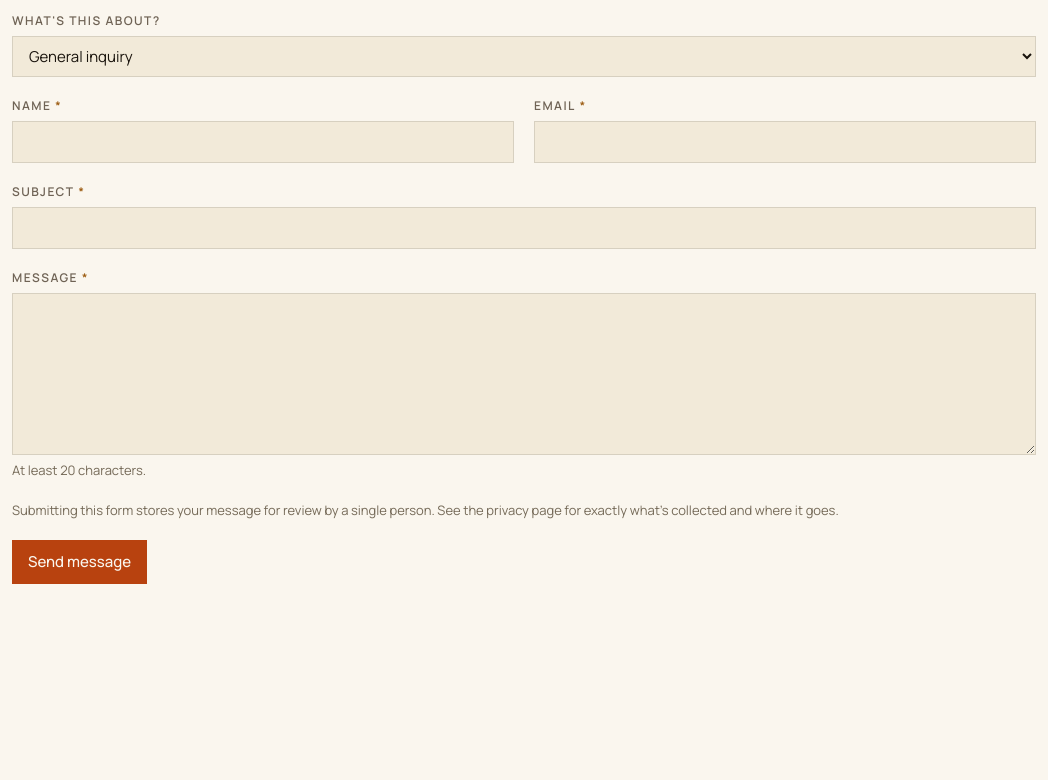
InquiryForm › submit lifecycle: pending, duplicate prevention, success, errors › disables the submit button and shows an accessible pending label while submitting
In the field labelled "Name*": {"x": 263, "y": 142} [12,121,514,163], type "Jane Doe"
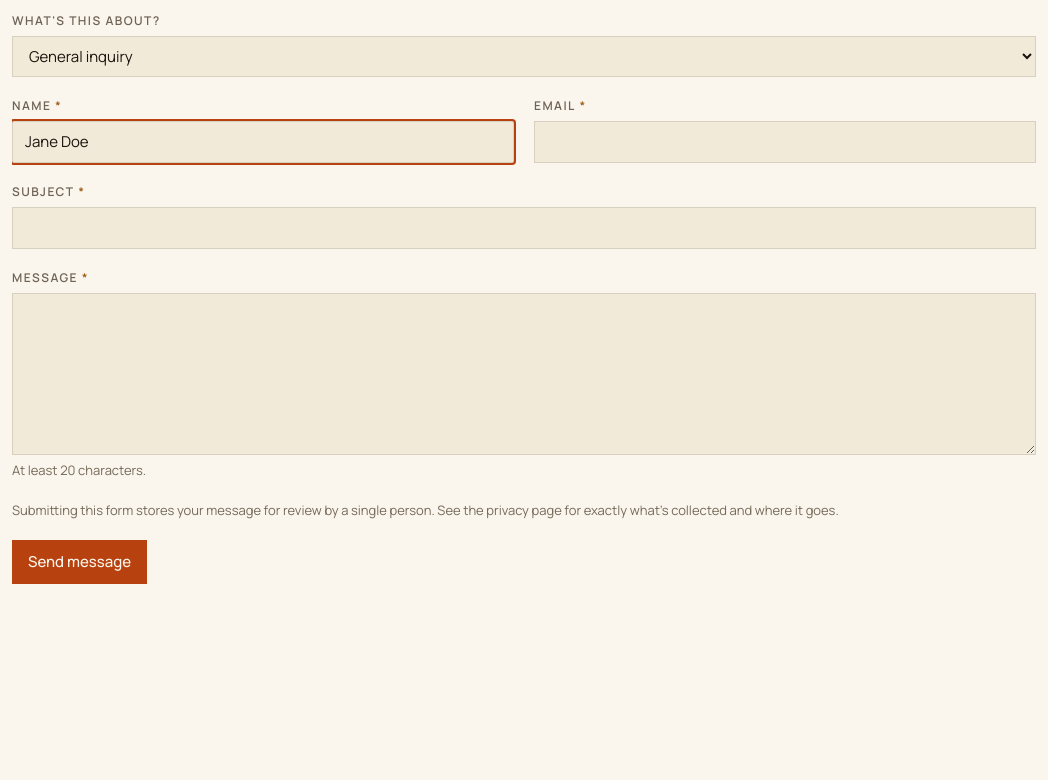
In the field labelled "Email*": {"x": 785, "y": 142} [534,121,1036,163], type "jane@example.com"
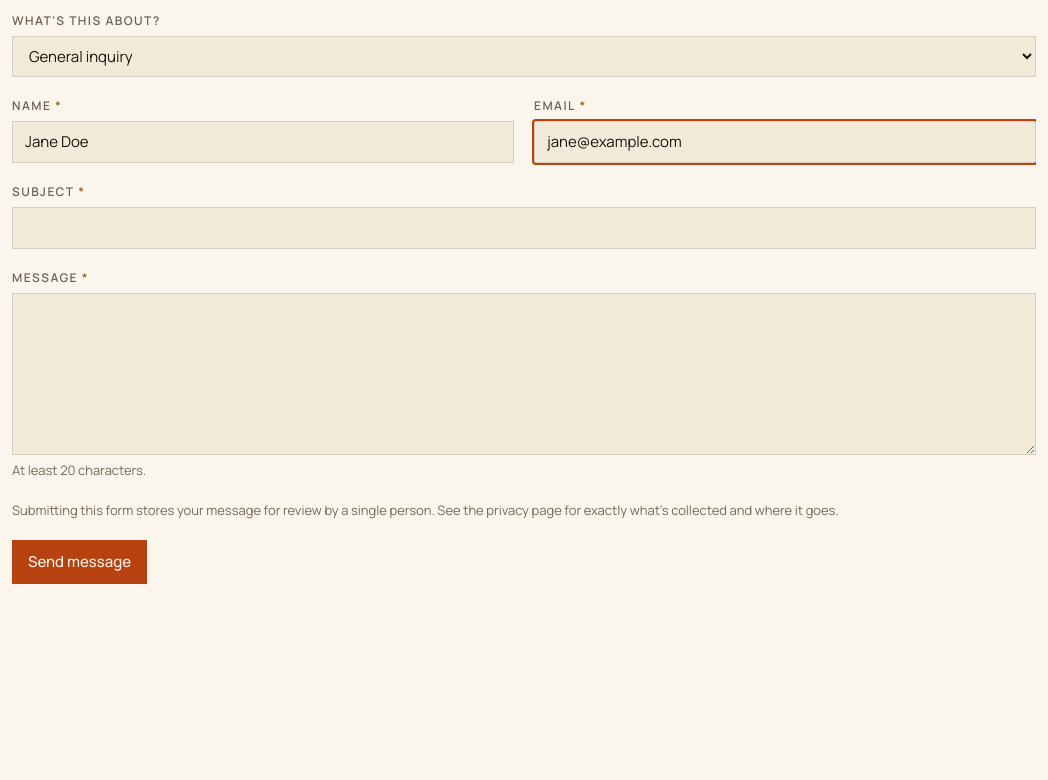
In the field labelled "Subject*": {"x": 524, "y": 228} [12,207,1036,249], type "A general inquiry"
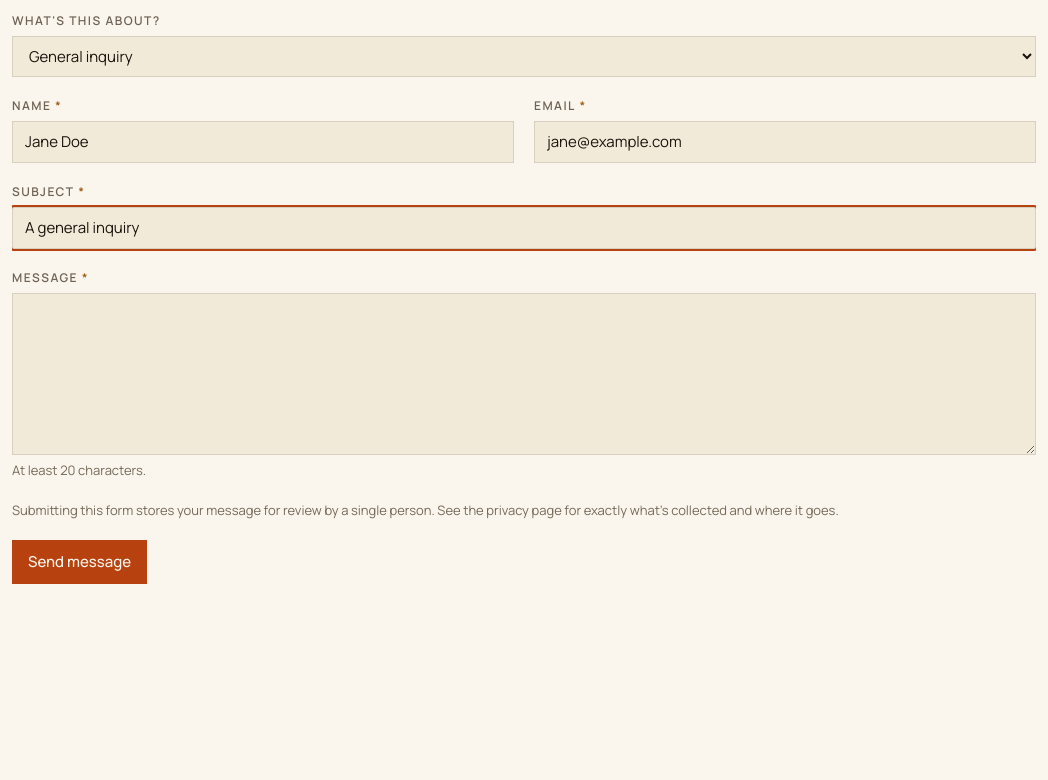
In the text box labelled "Message*": {"x": 524, "y": 374} [12,293,1036,455], type "This message is definitely more than twenty characters long."
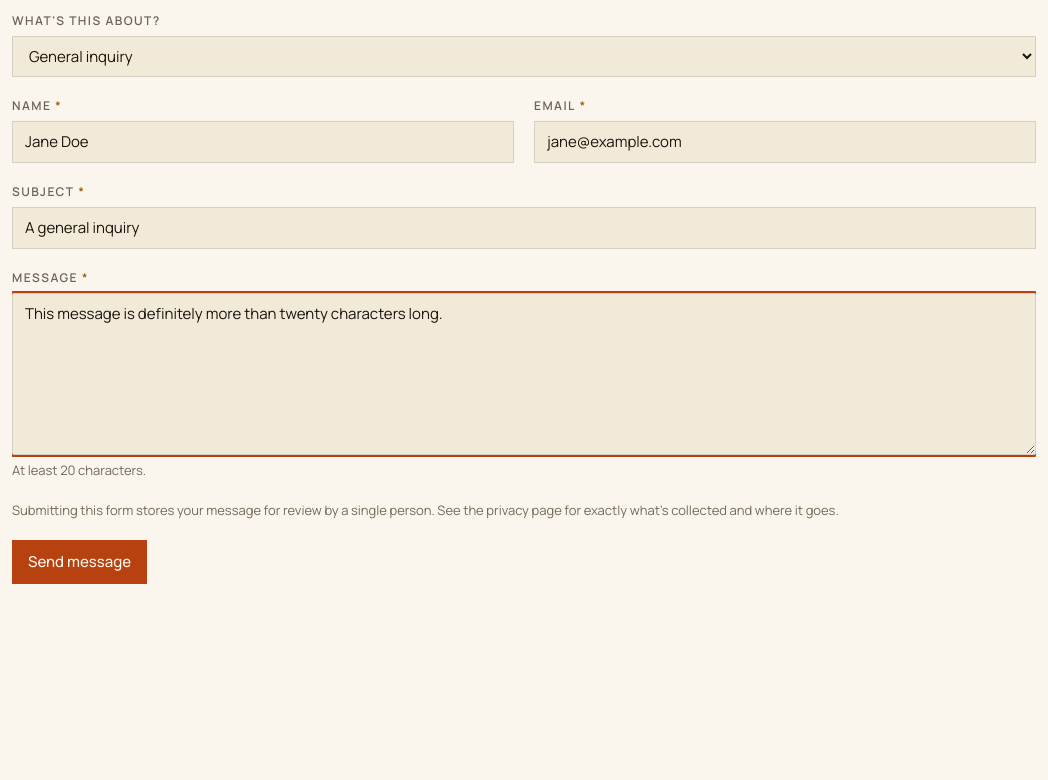
Click the button "Send message": {"x": 80, "y": 562} [12,540,147,584]
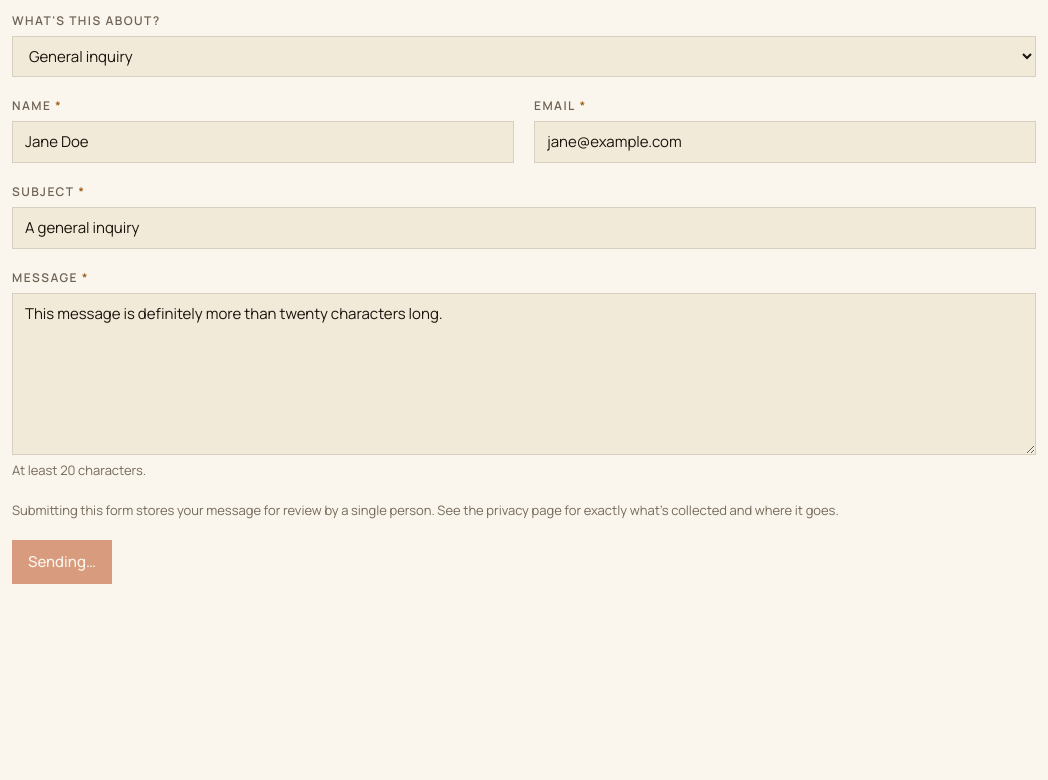
Expected: the button "Sending…" is disabled, [12,540,112,584]
